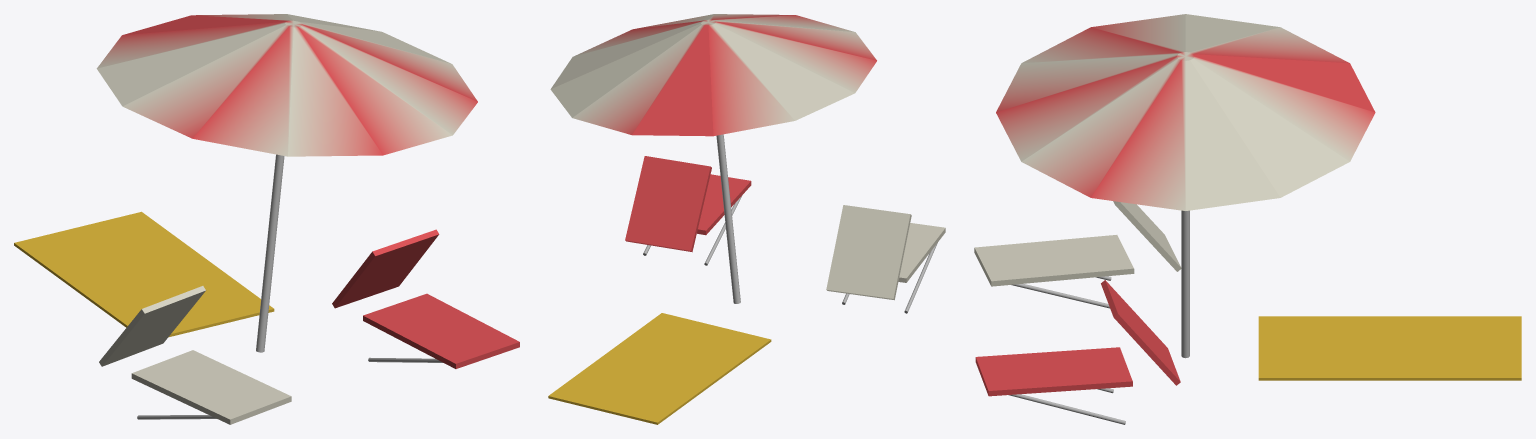
File: sombrilla_playa.glb
The picture shows the model from 3 angles, left to right: view 1: azimuth 30°, elevation 25°; view 2: azimuth 150°, elevation 25°; view 3: azimuth 270°, elevation 25°; orthographic projection. The views are drawn at different scales.
Visible parts, largest first — view 1: sombrilla_playa_Malla; view 2: sombrilla_playa_Malla; view 3: sombrilla_playa_Malla.
Boxes of the visible parts, box(x1,y1,x2,y2) form: sombrilla_playa_Malla: box(14, 14, 519, 424); sombrilla_playa_Malla: box(548, 14, 945, 424); sombrilla_playa_Malla: box(974, 14, 1521, 424).
Bounding box in the file's own units: 2.85 × 2.41 × 3.75.
